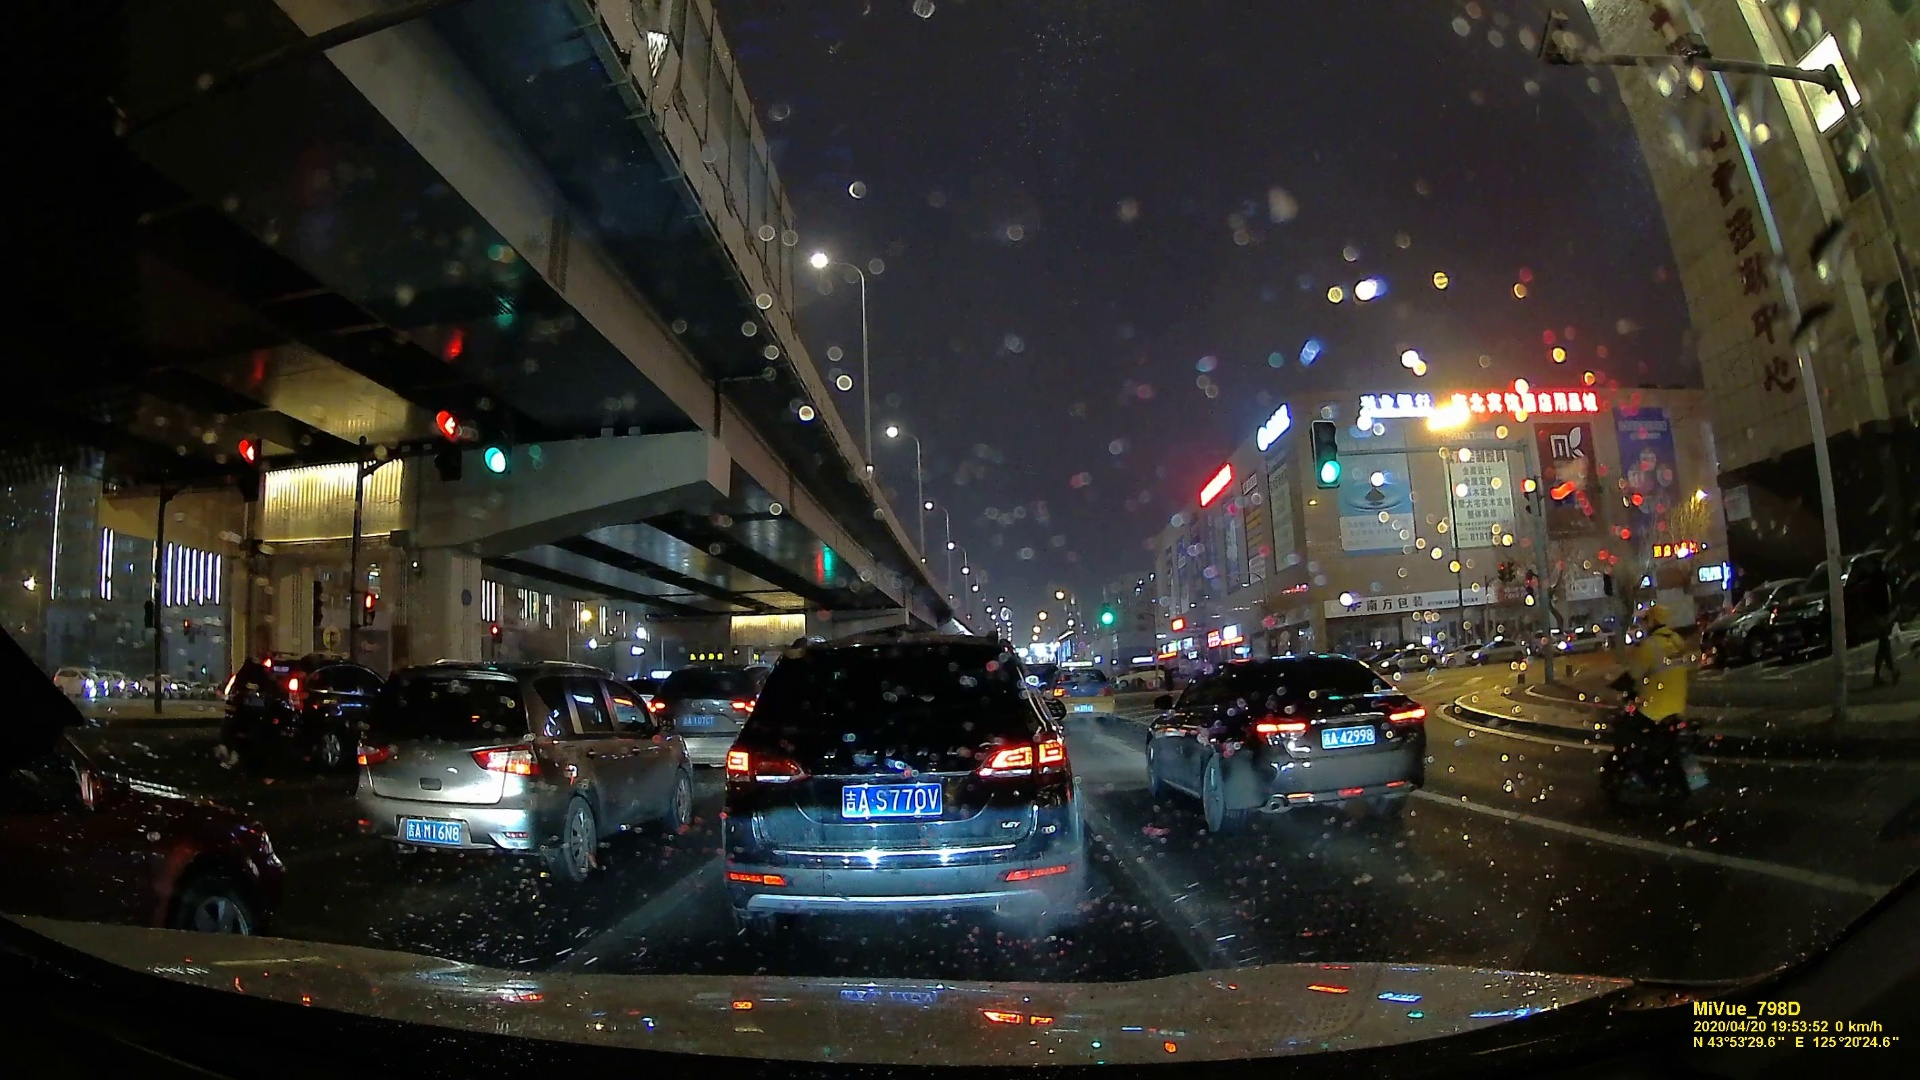person: (225, 656, 377, 776), (1621, 610, 1683, 736)
traffic_sign: (477, 408, 512, 480), (434, 408, 467, 478), (1314, 420, 1343, 489), (231, 436, 263, 500), (1101, 603, 1113, 624)
vehicle: (730, 642, 1076, 926), (346, 654, 705, 885), (1144, 656, 1436, 838), (650, 666, 750, 772)
